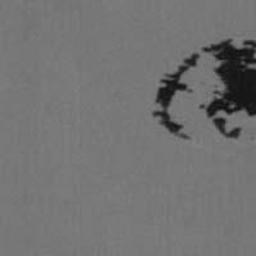Inclusion: (151, 37, 256, 142)
